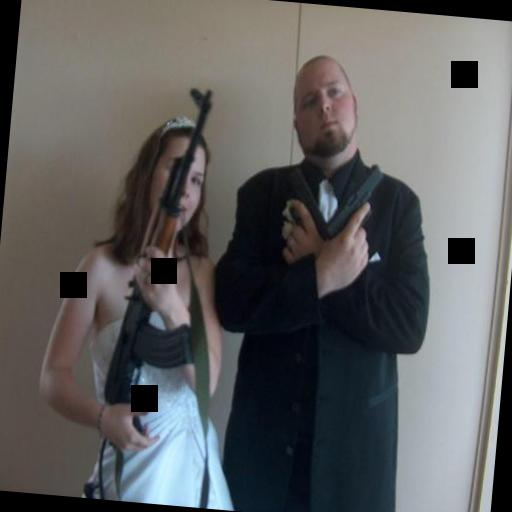Handgun: (324, 158, 384, 250), (277, 161, 332, 251)
